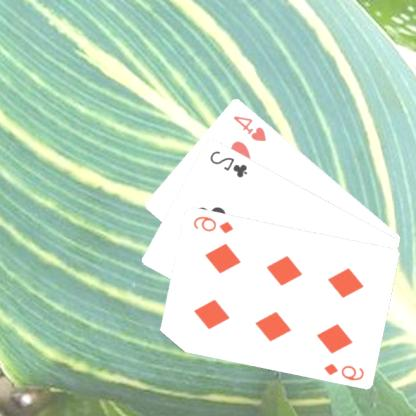2C: (209, 147, 251, 179)
4H: (232, 112, 269, 143)
6D: (192, 212, 236, 235), (323, 360, 368, 382)
